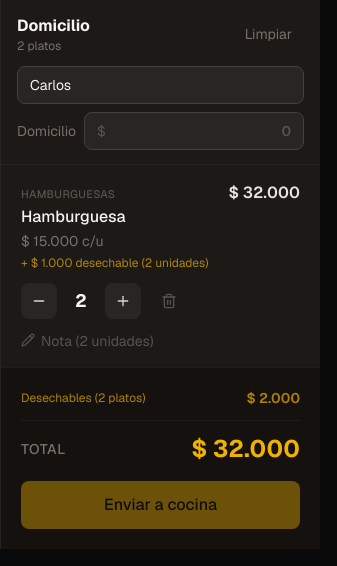
Test: OrderSummary — send button › disables send for delivery without delivery fee
Click the button "Enviar a cocina". click: (160, 505)
box: [21,481,300,529]
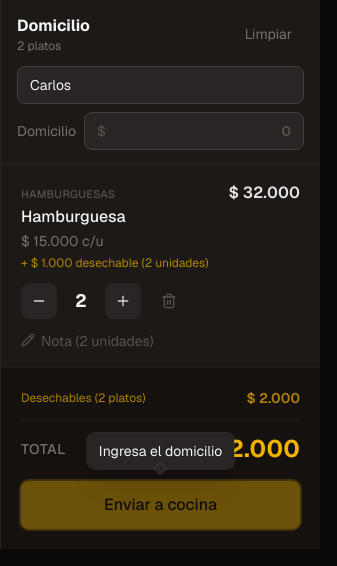
Check: the text "Ingresa el domicilio" is shown, box [87,433,234,469]
